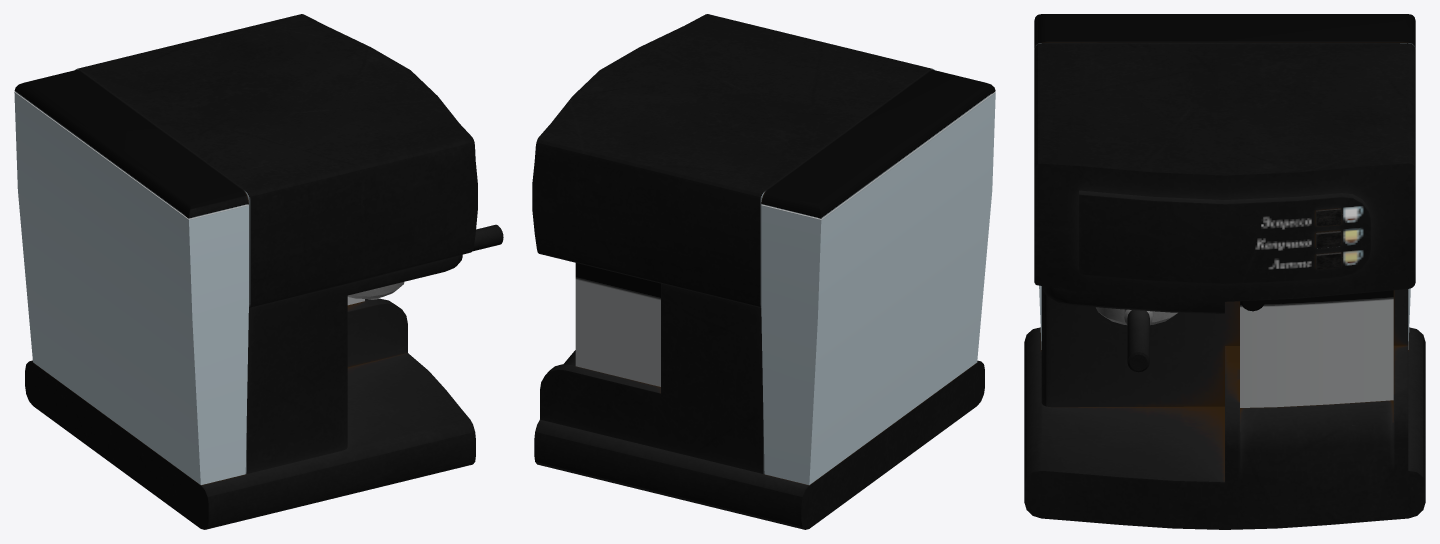
Rendered from Espresso Coffee Machine.glb.
3 renders of one model, left to right at view 1: azimuth 30°, elevation 25°; view 2: azimuth 150°, elevation 25°; view 3: azimuth 270°, elevation 25°, orthographic. The views are drawn at different scales.
Visible parts, largest first — view 1: Base.001; view 2: Base.001; view 3: Base.001.
Boxes of the visible parts, left/top/right/bottom form: Base.001: left=14, top=14, right=503, bottom=529; Base.001: left=532, top=14, right=995, bottom=529; Base.001: left=1024, top=14, right=1425, bottom=529.
Size of the model in its own units: 2.39 by 2.08 by 2.12.
Materials: 1 (1 with a texture image).
